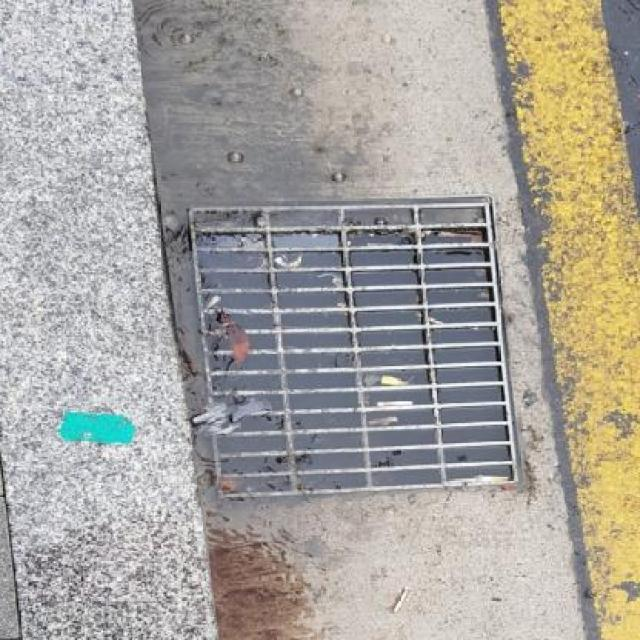Drain Hole: (184, 174, 541, 502)
